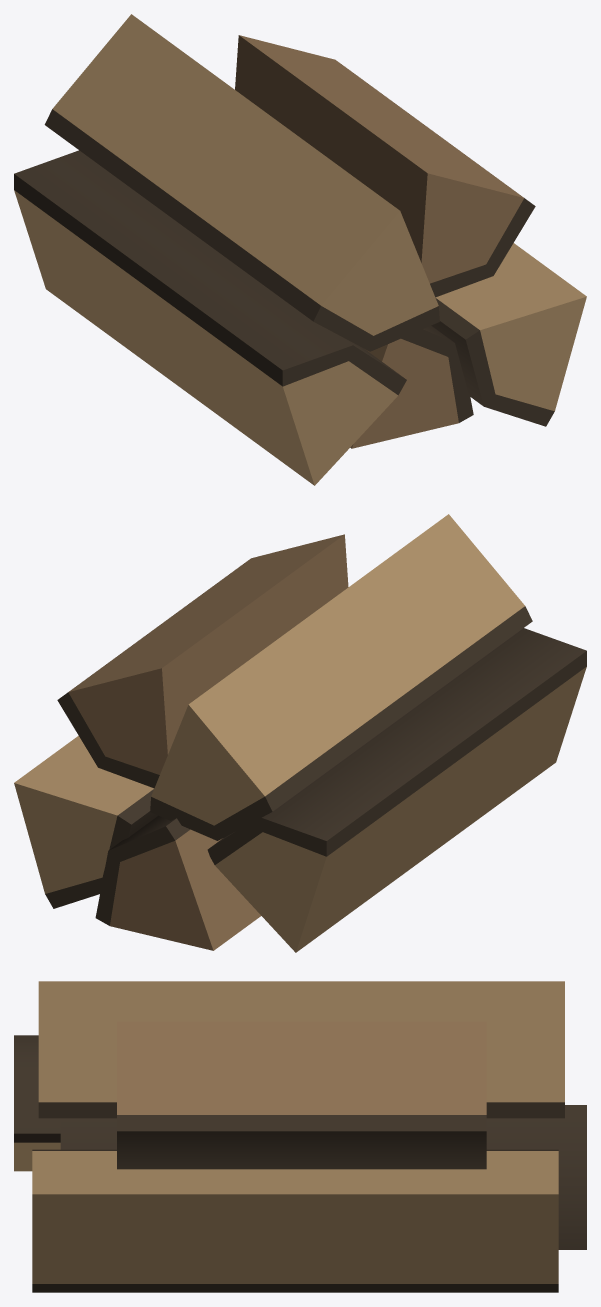
Rendered from SM_Prop_Wood_Pile_03.fbx.
The picture shows the model from 3 angles, top to bottom: view 1: azimuth 30°, elevation 25°; view 2: azimuth 150°, elevation 25°; view 3: azimuth 270°, elevation 25°; orthographic projection. The views are drawn at different scales.
Parts seen in each view (by area): view 1: SM_Prop_Wood_Pile_03; view 2: SM_Prop_Wood_Pile_03; view 3: SM_Prop_Wood_Pile_03.
Boxes of the visible parts, left/top/right/bottom form: SM_Prop_Wood_Pile_03: left=14, top=14, right=586, bottom=485; SM_Prop_Wood_Pile_03: left=14, top=514, right=586, bottom=952; SM_Prop_Wood_Pile_03: left=14, top=981, right=586, bottom=1292.
Bounding box in the file's own units: 81.73 × 61.88 × 132.
Materials: 1 (1 with a texture image).
